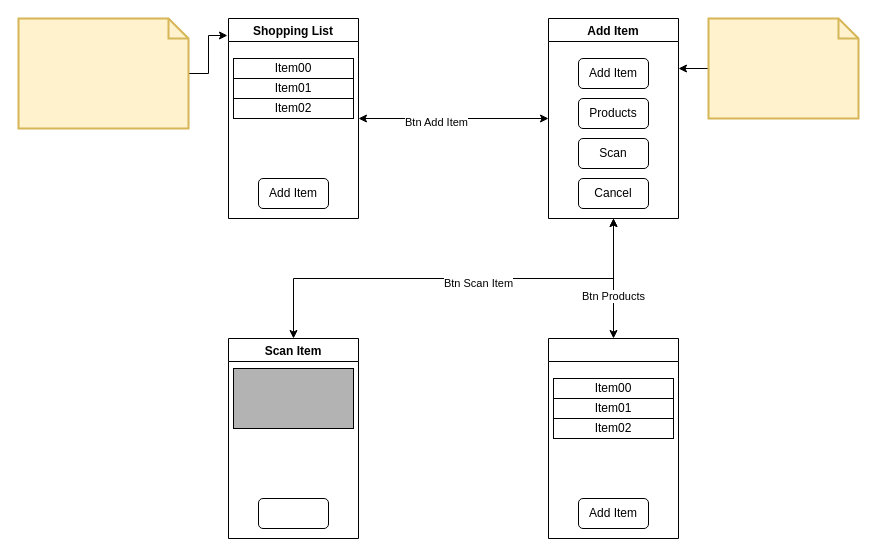
This 876x556 diagram has some shape labels left out. The shapes that lost their labels are listed below. From the top down, each one's box as (x1, y1, x2, y2) in pixels, then its label:
(17, 17, 189, 129): Sortieren hier als Menü - Art der Sortierung in Untermenüs
(707, 17, 859, 119): Hier natürlich neben den Buttons auch anlegen neuer Items
(548, 338, 678, 538): Product List
(258, 498, 328, 528): Back
